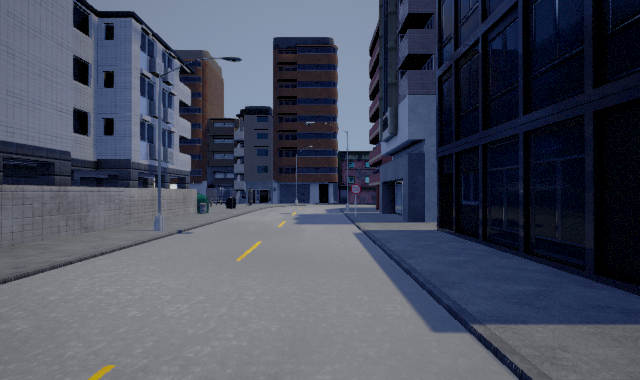traffic_sign: (351, 184, 361, 194)
